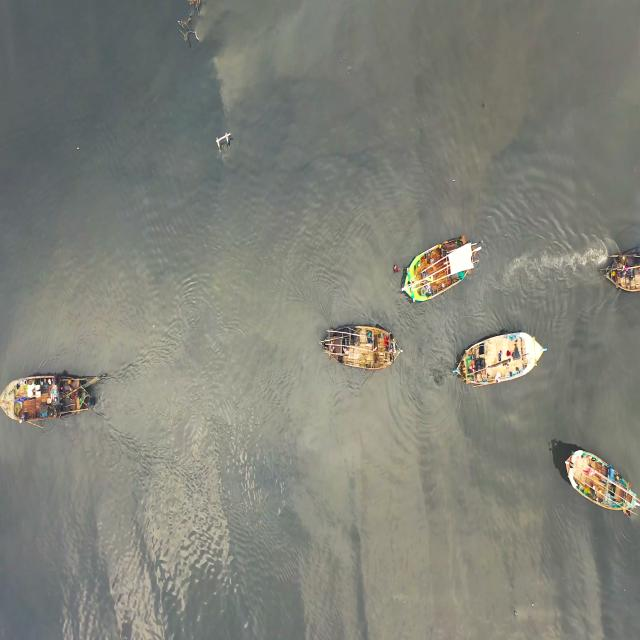ship: (398, 226, 483, 309), (563, 445, 640, 524), (0, 370, 98, 428), (449, 330, 549, 385), (322, 320, 400, 370), (600, 237, 640, 296)
